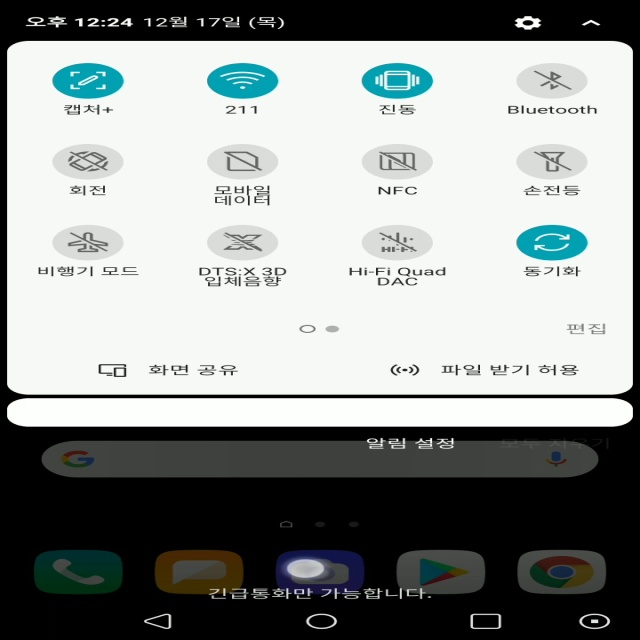Cursor: (283, 558, 328, 580)
